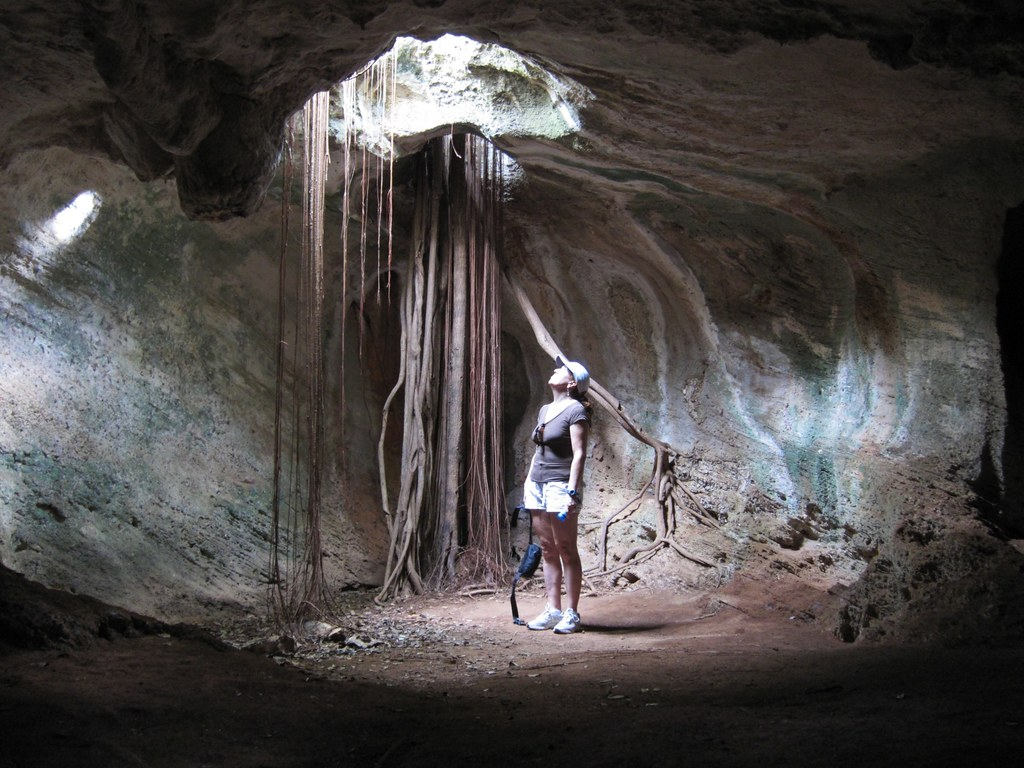Person: (523, 354, 594, 634)
